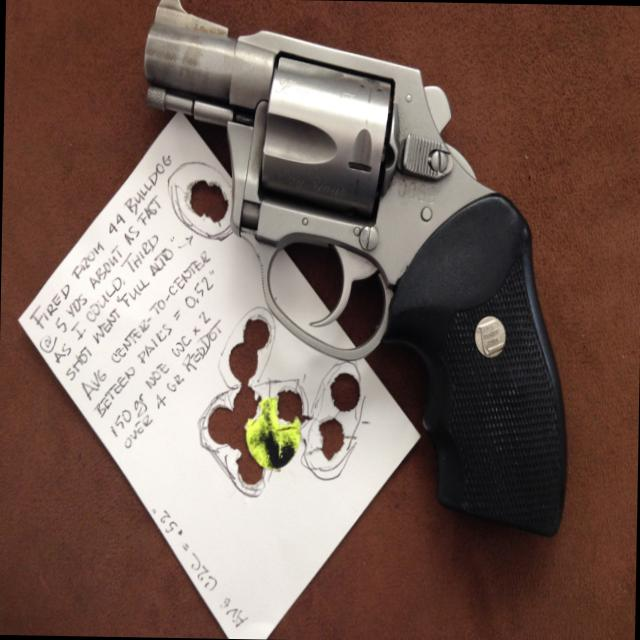Gun: (112, 0, 584, 559)
